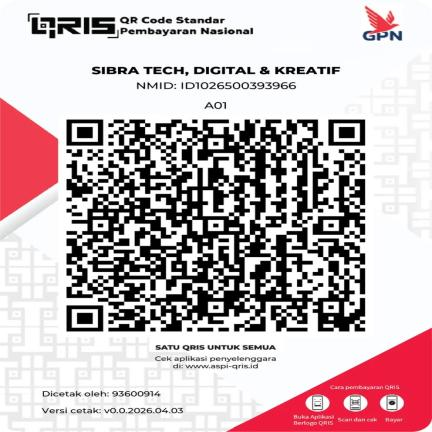Barcode_Asli: (58, 115, 374, 340)
